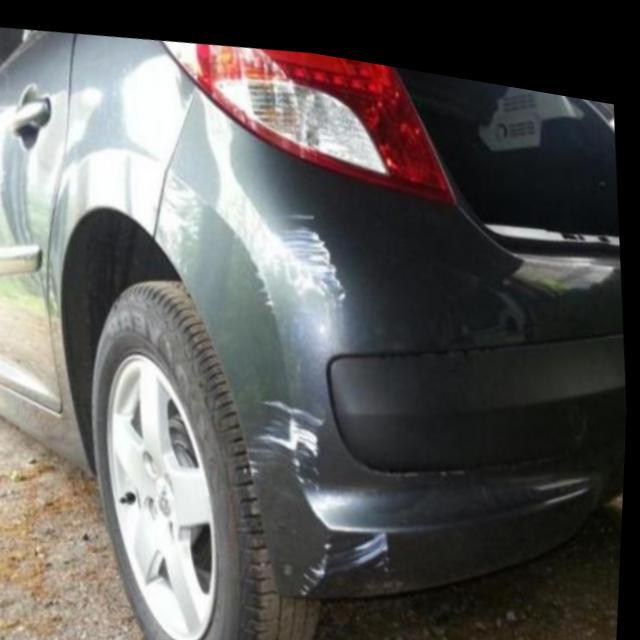rub: (236, 205, 341, 309), (257, 389, 328, 484), (304, 513, 394, 574)
